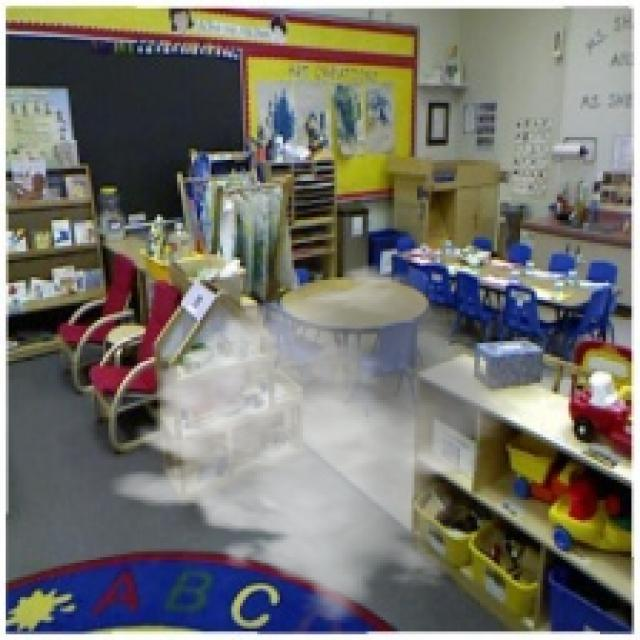Smoke: (109, 260, 528, 623)
